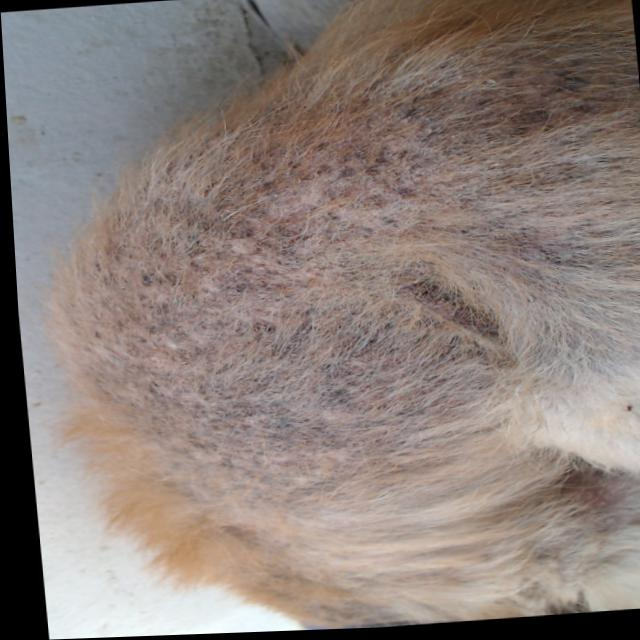demodicosis: (95, 136, 466, 478)
